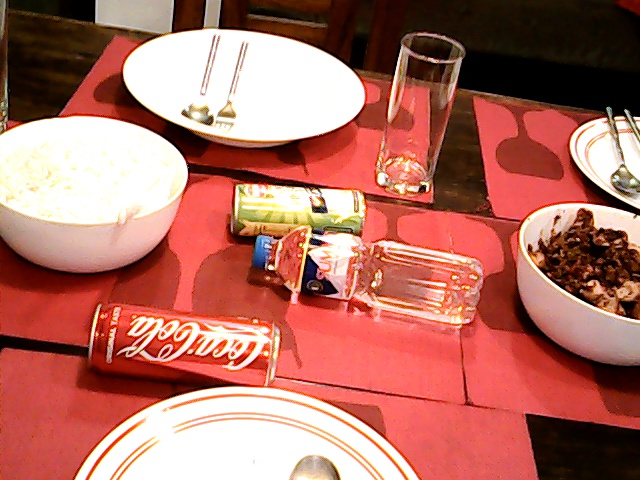Cola: (82, 299, 271, 396)
Pine Juice: (223, 167, 372, 234)
Summit Water: (252, 223, 492, 335)
